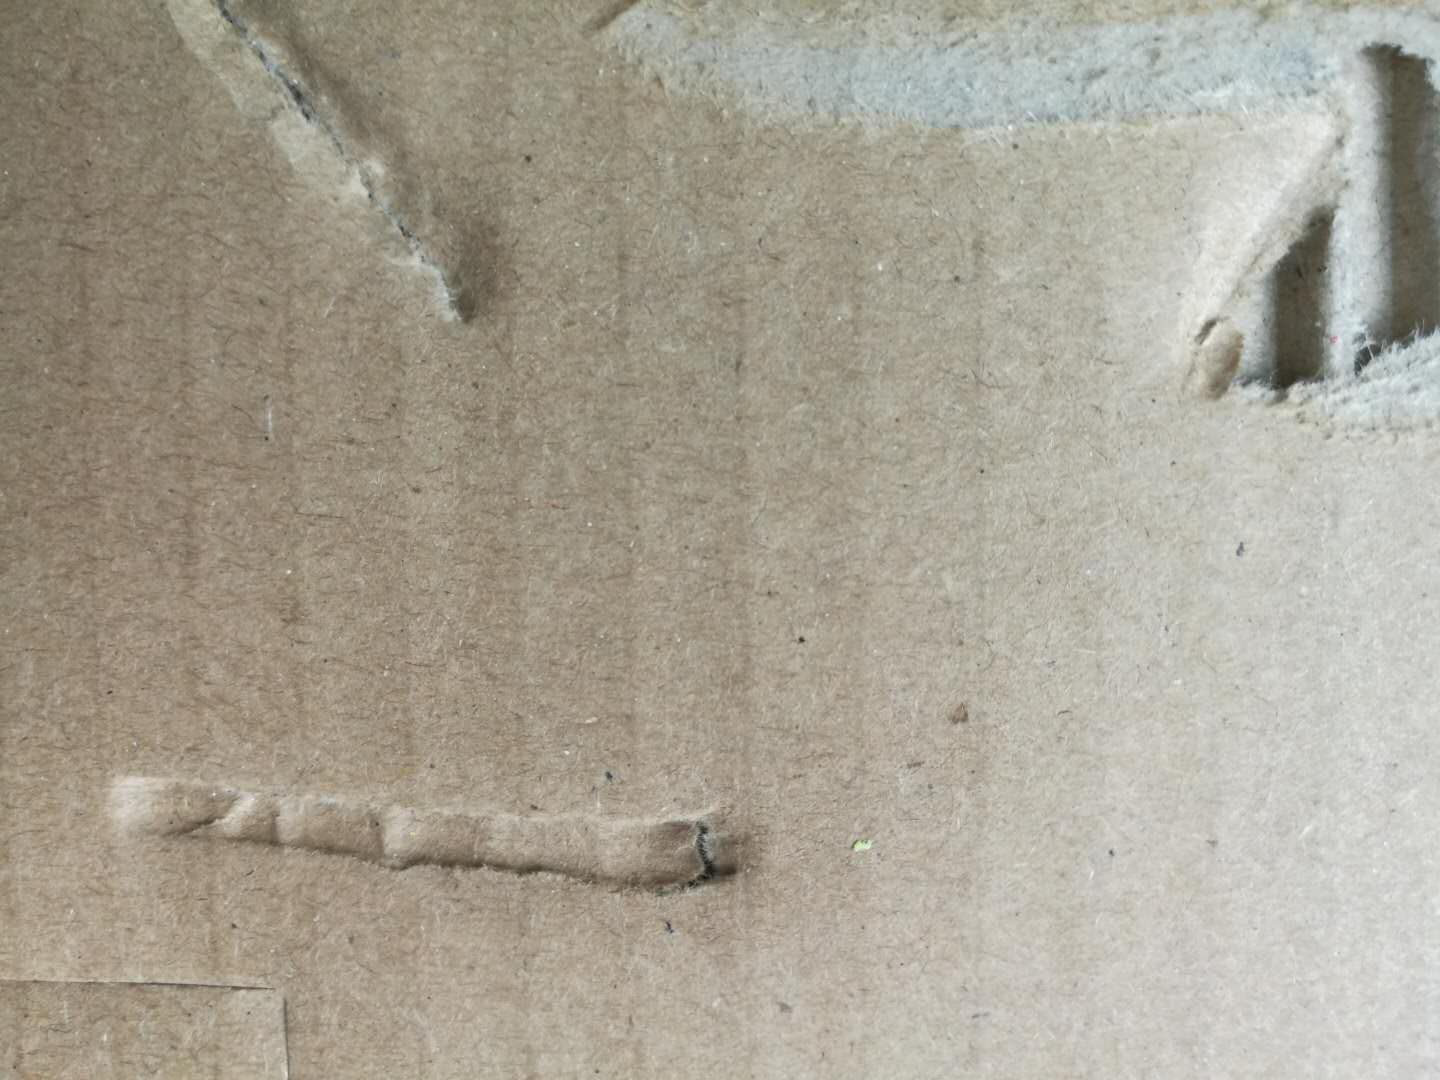defect: (574, 1, 1440, 528), (135, 3, 554, 366), (91, 743, 798, 936), (1, 940, 333, 1080)
